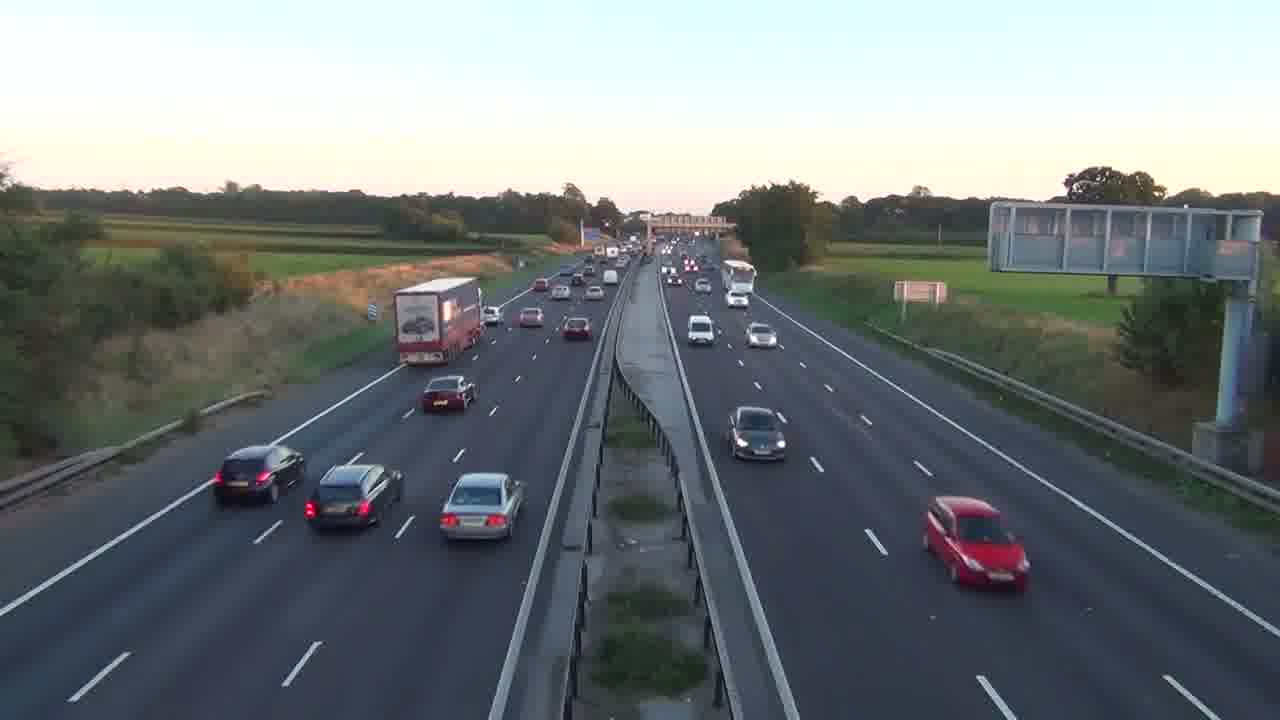bus: (393, 275, 484, 366)
car: (922, 495, 1032, 592), (304, 461, 402, 531), (438, 471, 527, 542), (210, 443, 306, 506), (727, 405, 790, 462), (417, 374, 477, 414), (687, 313, 718, 346), (745, 321, 781, 349), (560, 315, 593, 341), (517, 304, 545, 329)
